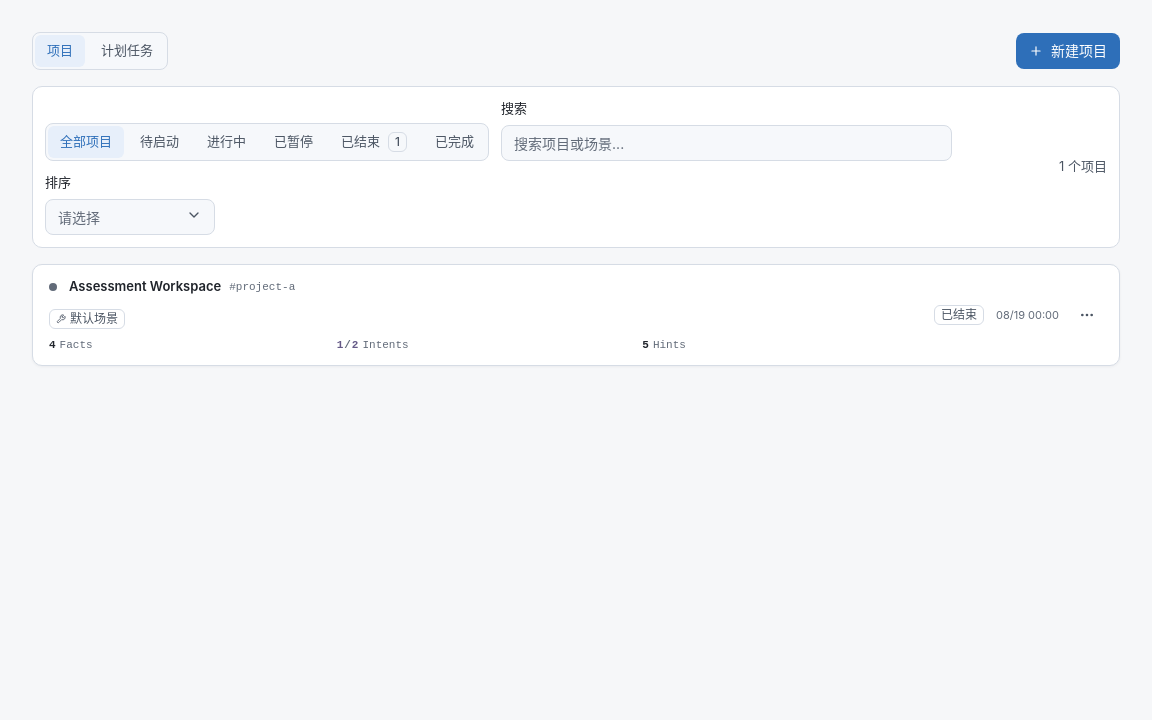
Test: Projects shared control migration › renders an accessible project menu without resuming a stopped project
The width and height of the screenshot is (1152, 720).
Click the button named "项目操作菜单" at (1087, 315), box [1071,299,1103,331]
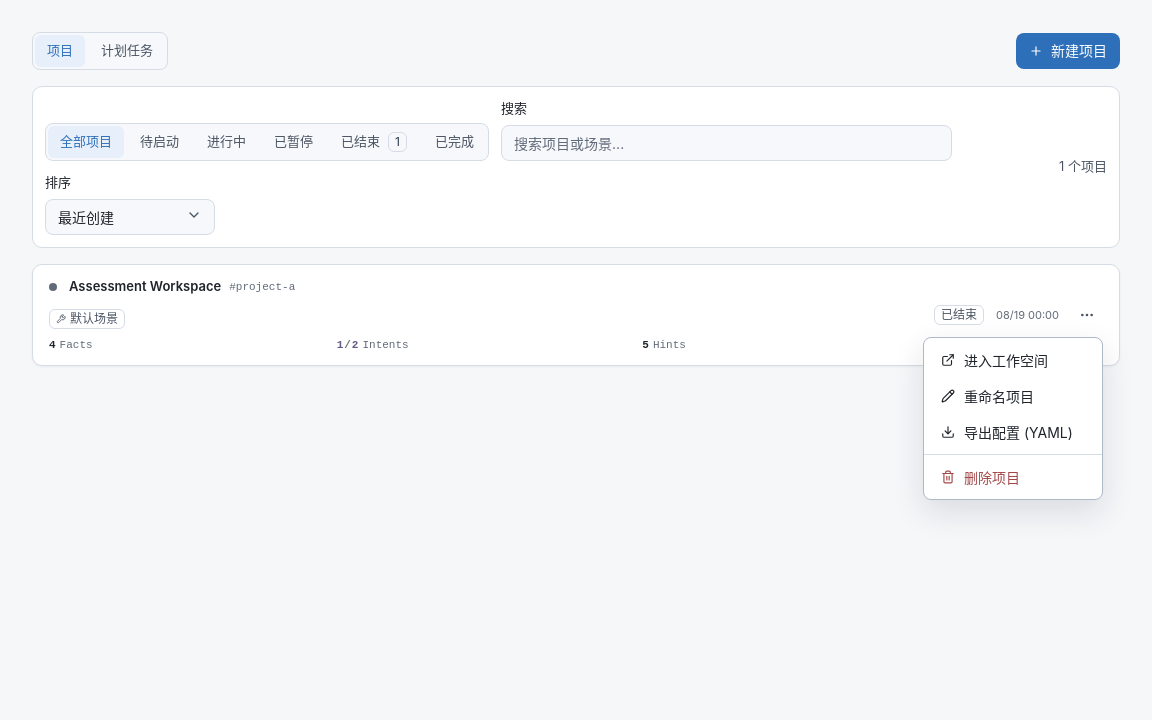
expect the menu is shown: met, box [923,337,1103,500]
